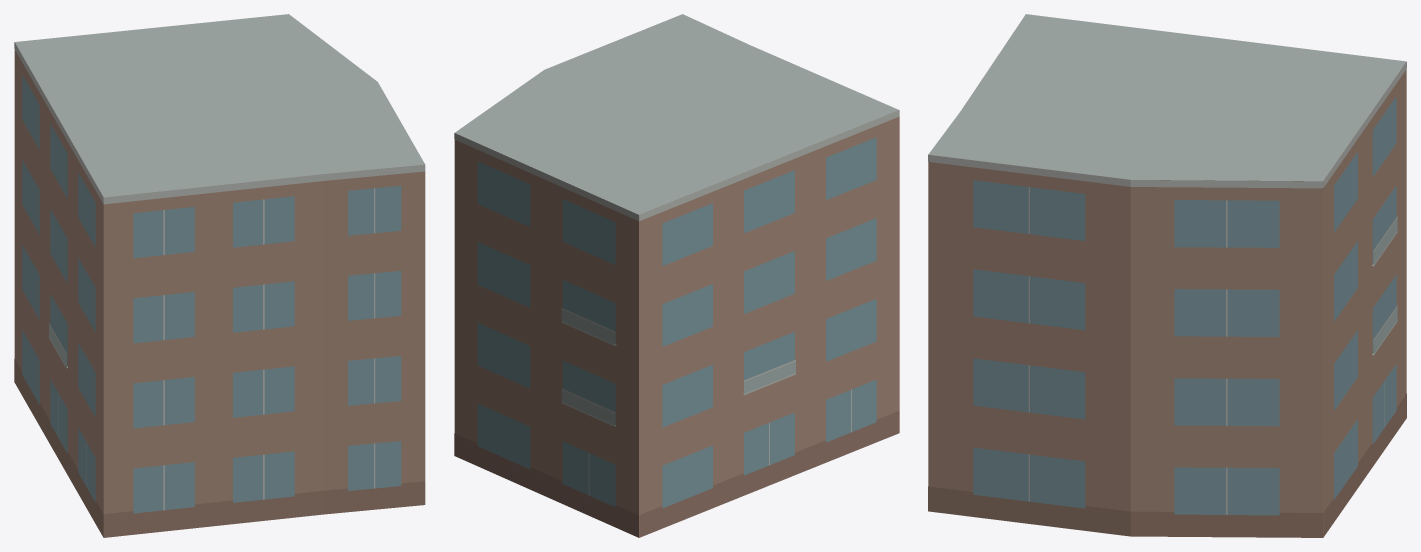
Rendered from residential-9dbb6b0b-5087-4781-88b4-cb8f52aa59aa.glb.
The picture shows the model from 3 angles, left to right: view 1: azimuth 30°, elevation 25°; view 2: azimuth 150°, elevation 25°; view 3: azimuth 270°, elevation 25°; orthographic projection. The views are drawn at different scales.
Parts seen in each view (by area): view 1: residential-9dbb6b0b-5087-4781-88b4-cb8f52aa59aa.tmp; view 2: residential-9dbb6b0b-5087-4781-88b4-cb8f52aa59aa.tmp; view 3: residential-9dbb6b0b-5087-4781-88b4-cb8f52aa59aa.tmp.
Boxes of the visible parts, x1,y1,x2,y2 form: residential-9dbb6b0b-5087-4781-88b4-cb8f52aa59aa.tmp: (14, 14, 425, 537); residential-9dbb6b0b-5087-4781-88b4-cb8f52aa59aa.tmp: (454, 14, 899, 537); residential-9dbb6b0b-5087-4781-88b4-cb8f52aa59aa.tmp: (928, 14, 1406, 537).
Size of the model in its own units: 12.28 by 12.2 by 14.85.
